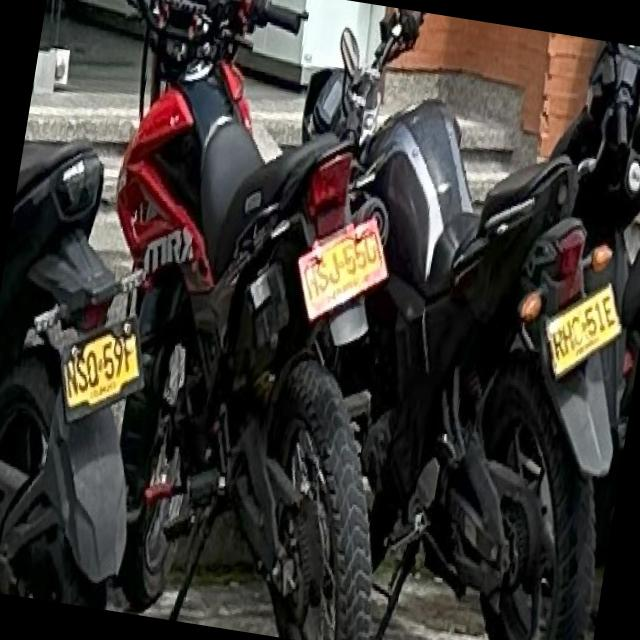number plate: (297, 215, 386, 317), (61, 316, 141, 418), (545, 281, 620, 374)
